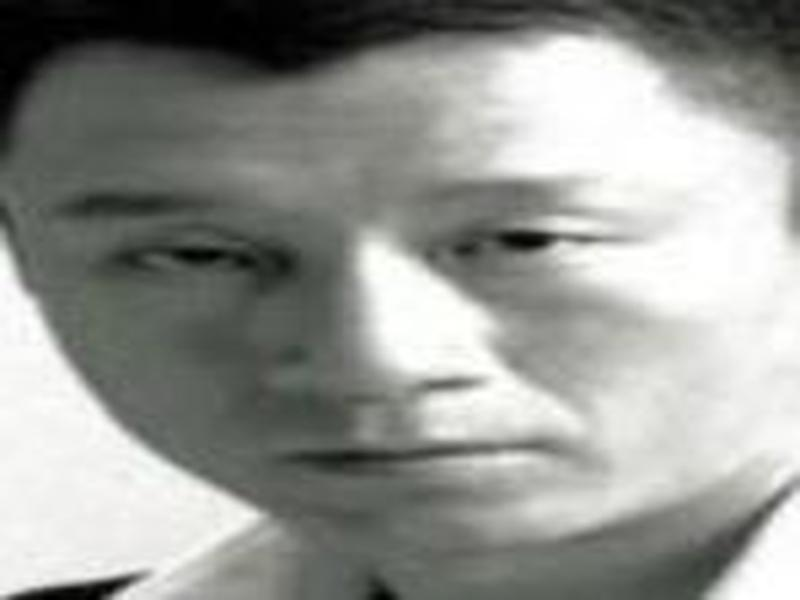without_mask: (12, 53, 800, 548)
